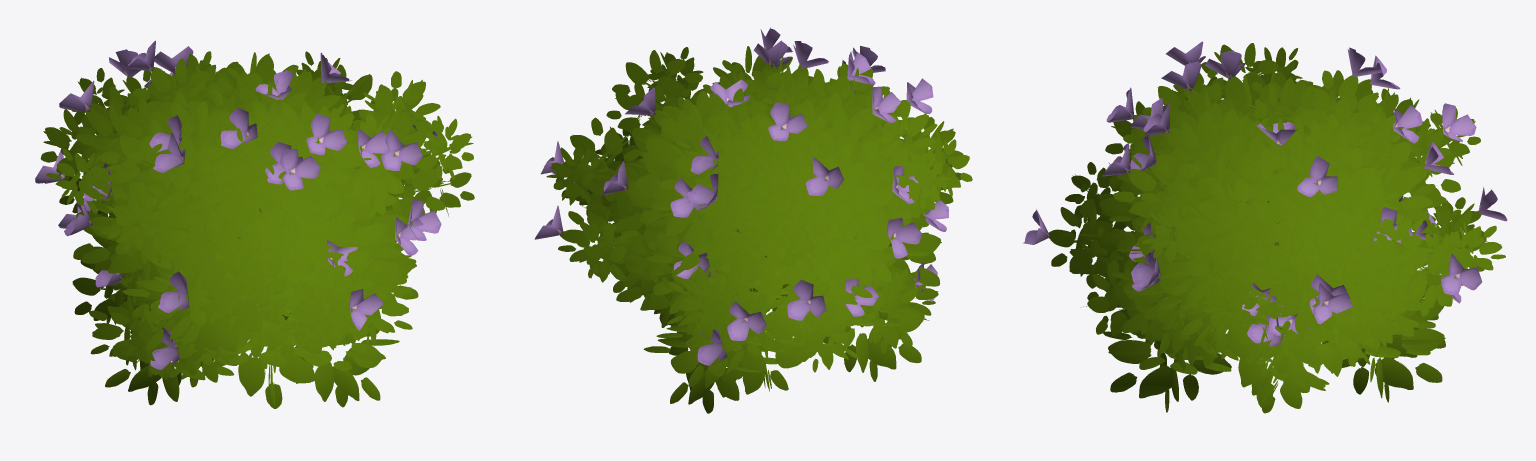
Rendered from bush-flowers.glb.
The picture shows the model from 3 angles, left to right: view 1: azimuth 30°, elevation 25°; view 2: azimuth 150°, elevation 25°; view 3: azimuth 270°, elevation 25°; orthographic projection. The views are drawn at different scales.
Parts seen in each view (by area): view 1: Bush_Common_Flowers; view 2: Bush_Common_Flowers; view 3: Bush_Common_Flowers.
Boxes of the visible parts, x1,y1,x2,y2 form: Bush_Common_Flowers: [35, 40, 474, 408]; Bush_Common_Flowers: [534, 27, 972, 413]; Bush_Common_Flowers: [1023, 41, 1507, 413].
Bounding box in the file's own units: 1.91 × 1.58 × 1.97.
2 materials, 2 textured.
